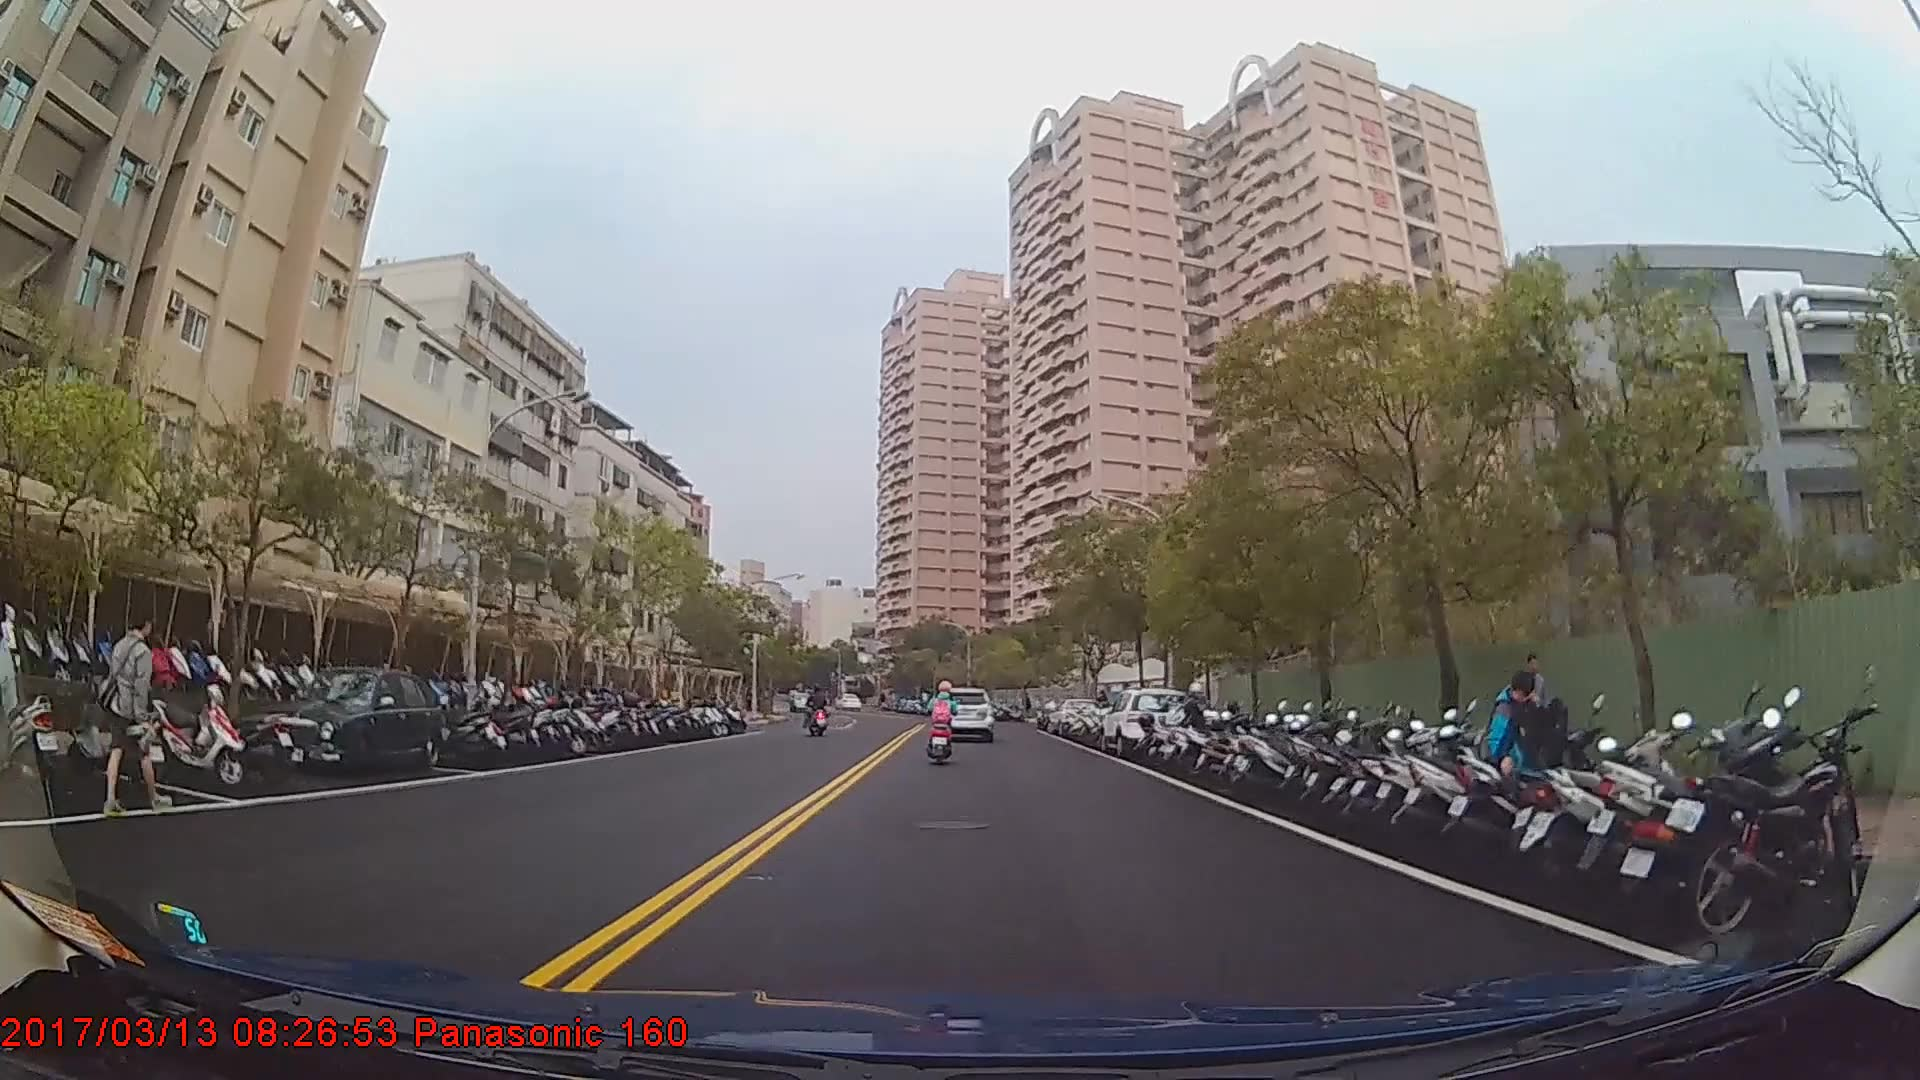pedestrian: (90, 606, 172, 818), (1486, 668, 1564, 851), (1505, 649, 1556, 771)
rider: (925, 673, 960, 760), (804, 682, 830, 736)
vehicle: (275, 664, 443, 778), (1098, 684, 1193, 755), (935, 683, 993, 736)
